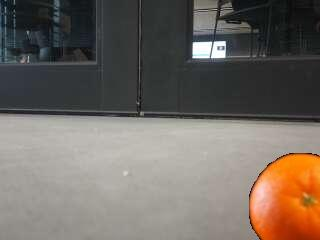Orange: (249, 153, 320, 240)
